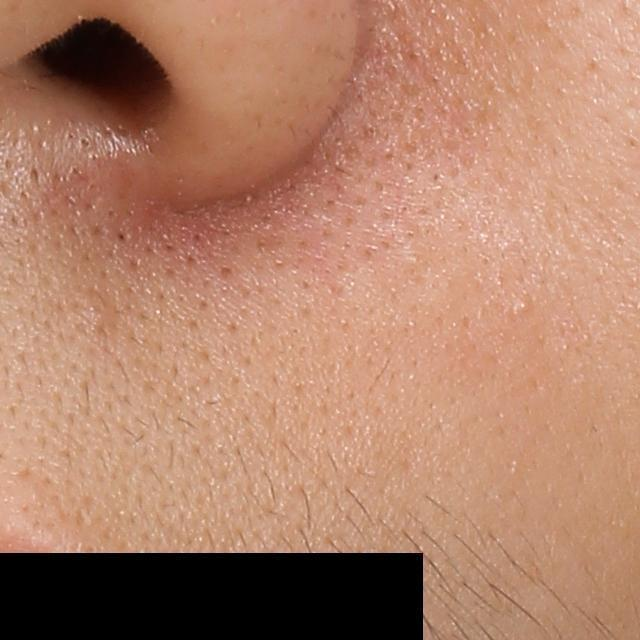comedo: (511, 293, 532, 319)
